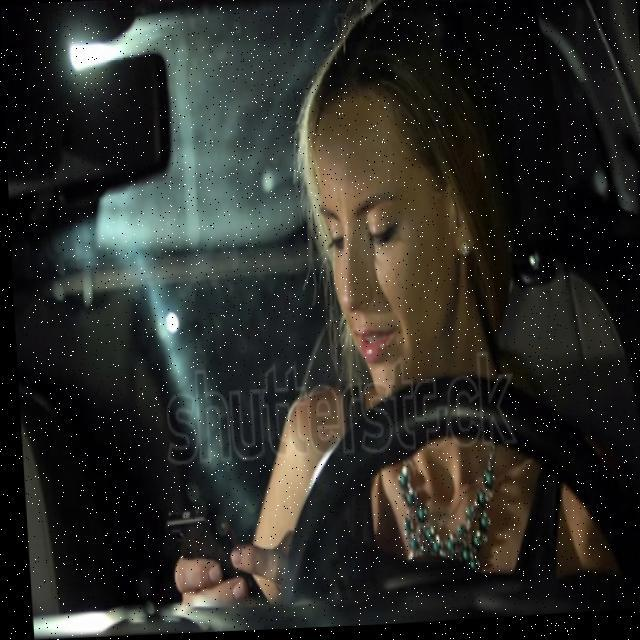PhoneCall: (159, 502, 264, 622)
